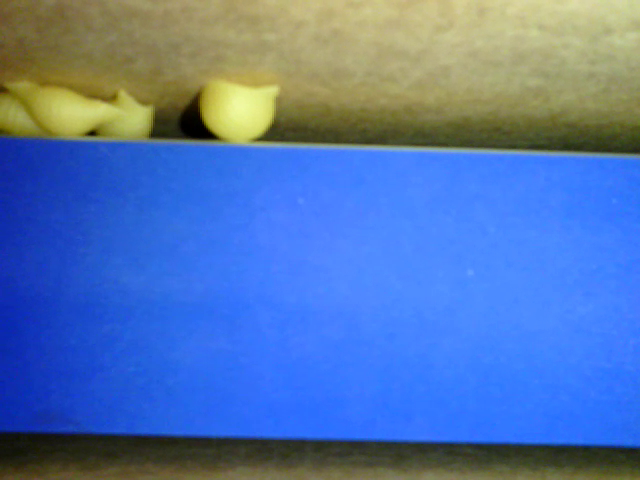shell: (1, 76, 128, 140), (200, 76, 283, 145), (93, 89, 156, 141), (1, 93, 54, 139)
